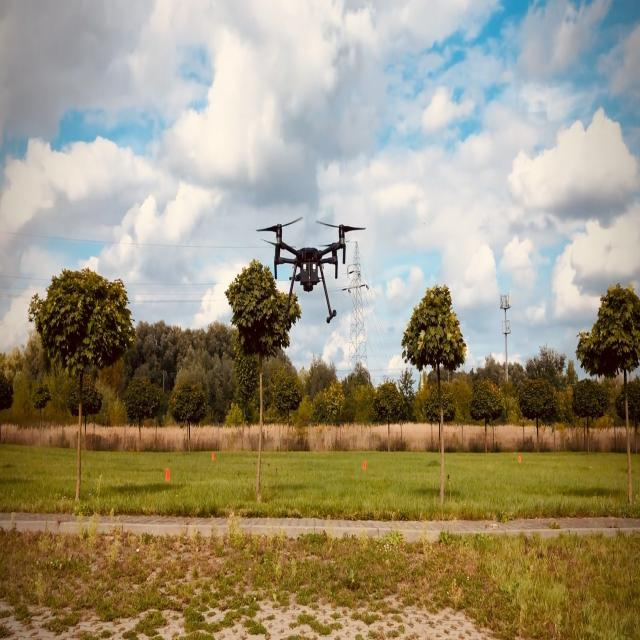drone: (255, 215, 366, 324)
